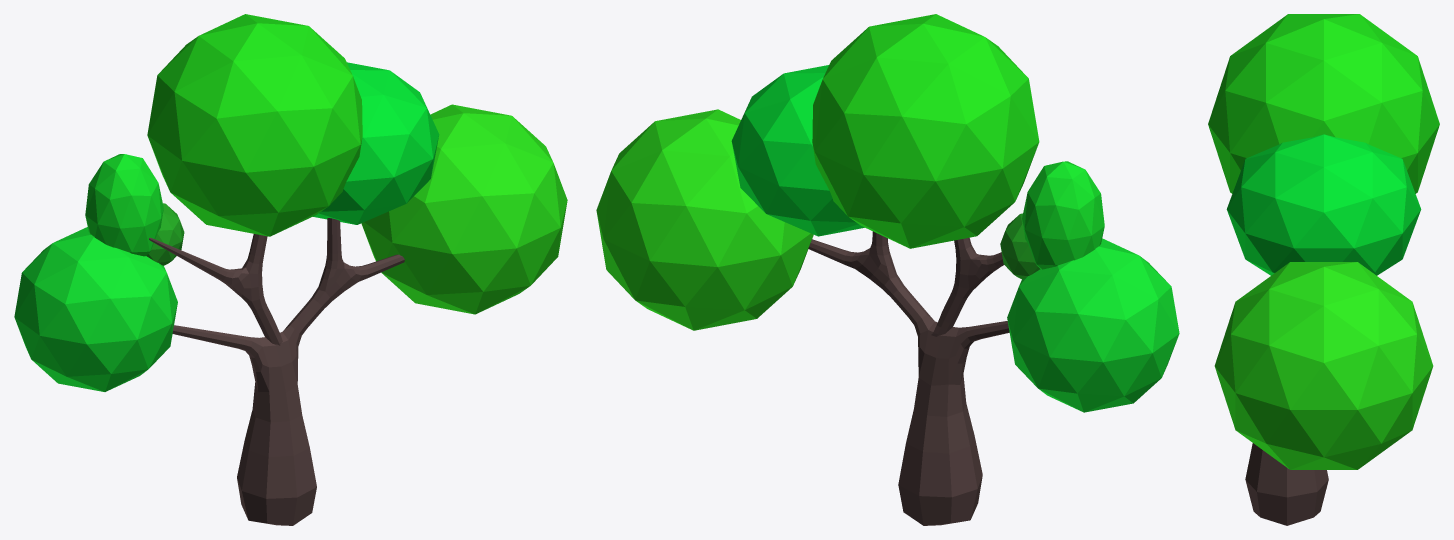
The model's file is tree.fbx.
3 views of the same model, side by side, from view 1: azimuth 30°, elevation 25°; view 2: azimuth 150°, elevation 25°; view 3: azimuth 270°, elevation 25° (orthographic). The views are drawn at different scales.
Visible parts, largest first — view 1: Icosphere.005, Icosphere, Icosphere.002, Plane, Icosphere.001, Icosphere.004, Icosphere.003; view 2: Icosphere.005, Icosphere, Icosphere.002, Plane, Icosphere.001, Icosphere.004, Icosphere.003; view 3: Icosphere, Icosphere.005, Icosphere.001, Plane.
Part boxes in pixels (x1=…): Icosphere.005: x1=147, y1=14, x2=362, y2=236; Icosphere: x1=361, y1=104, x2=567, y2=314; Icosphere.002: x1=14, y1=227, x2=177, y2=391; Plane: x1=149, y1=218, x2=404, y2=525; Icosphere.001: x1=313, y1=62, x2=439, y2=224; Icosphere.004: x1=85, y1=154, x2=163, y2=256; Icosphere.003: x1=146, y1=203, x2=184, y2=265; Icosphere.005: x1=812, y1=14, x2=1039, y2=248; Icosphere: x1=596, y1=109, x2=813, y2=330; Icosphere.002: x1=1007, y1=238, x2=1179, y2=412; Plane: x1=808, y1=231, x2=1009, y2=525; Icosphere.001: x1=731, y1=65, x2=864, y2=236; Icosphere.004: x1=1022, y1=161, x2=1104, y2=269; Icosphere.003: x1=1000, y1=213, x2=1040, y2=279; Icosphere: x1=1214, y1=262, x2=1433, y2=469; Icosphere.005: x1=1208, y1=14, x2=1439, y2=193; Icosphere.001: x1=1226, y1=134, x2=1421, y2=275; Plane: x1=1245, y1=443, x2=1328, y2=525.
Size of the model in its own units: 1688 by 1506 by 629.
